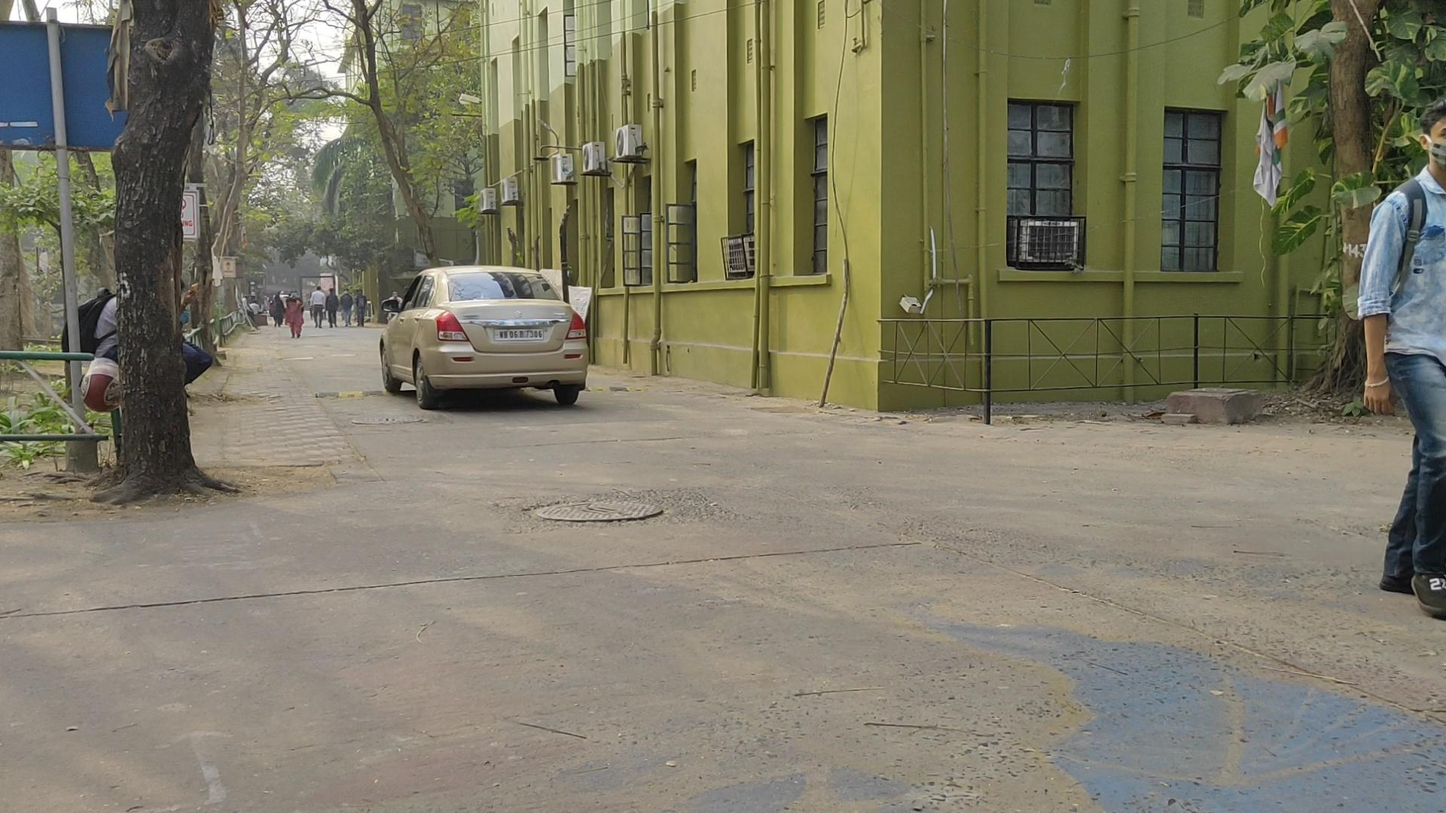car: (378, 264, 587, 410)
